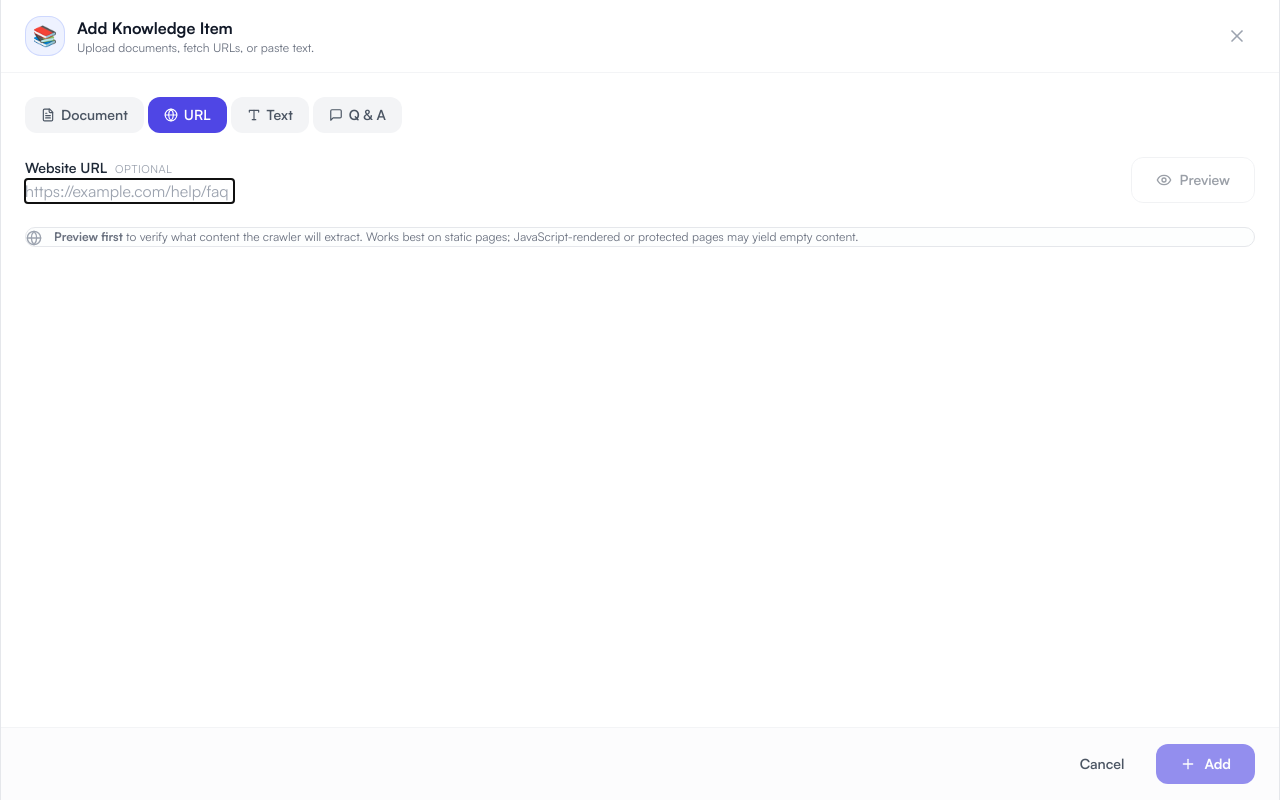
Test: URL preview selection › invalidates both previews when the URL changes
In the field labelled "Website URL": (130, 191) x1=25 y1=179 x2=234 y2=203, type "https://example.com/page"
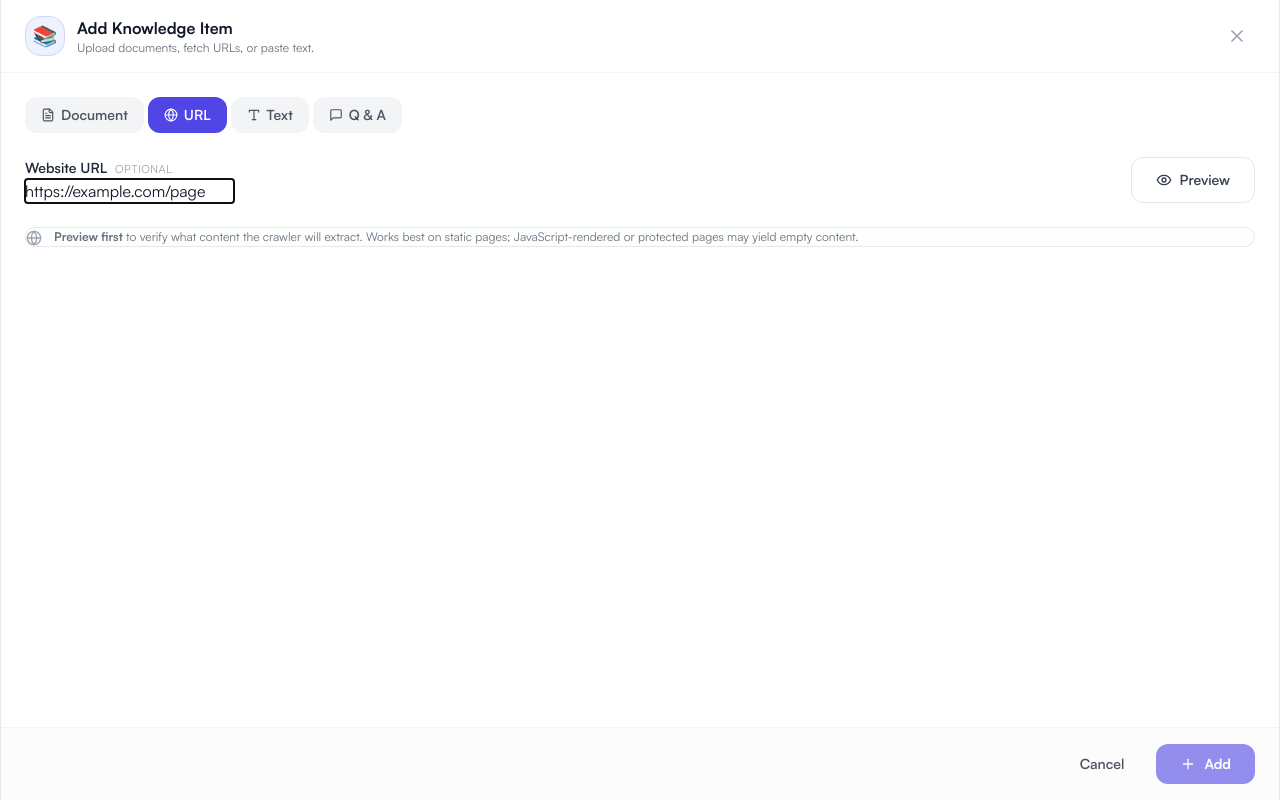
Click the button "Preview": (1193, 180) x1=1131 y1=157 x2=1255 y2=203
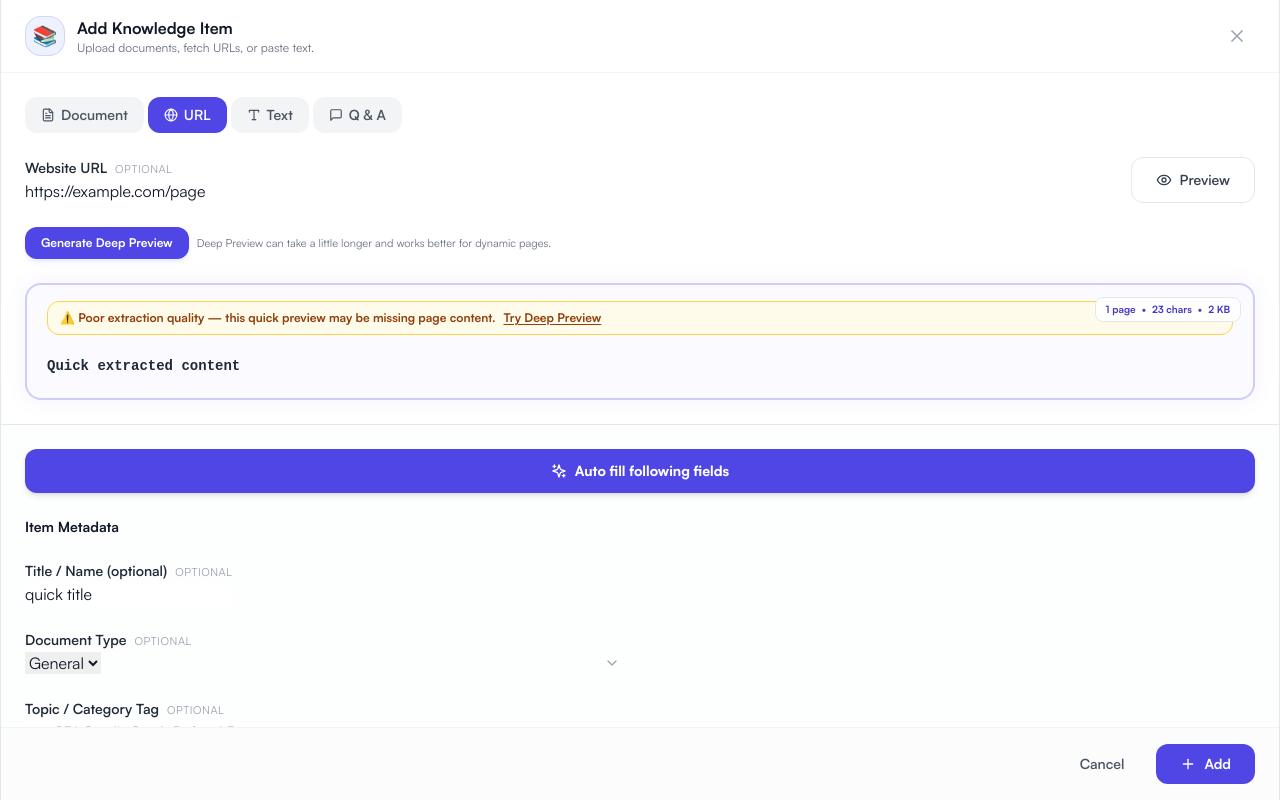
expect the text "Quick extracted content" is shown: met, box x1=47 y1=358 x2=240 y2=374
In the field labelled "Website URL": (130, 191) x1=25 y1=179 x2=234 y2=203, type "?changed=1"
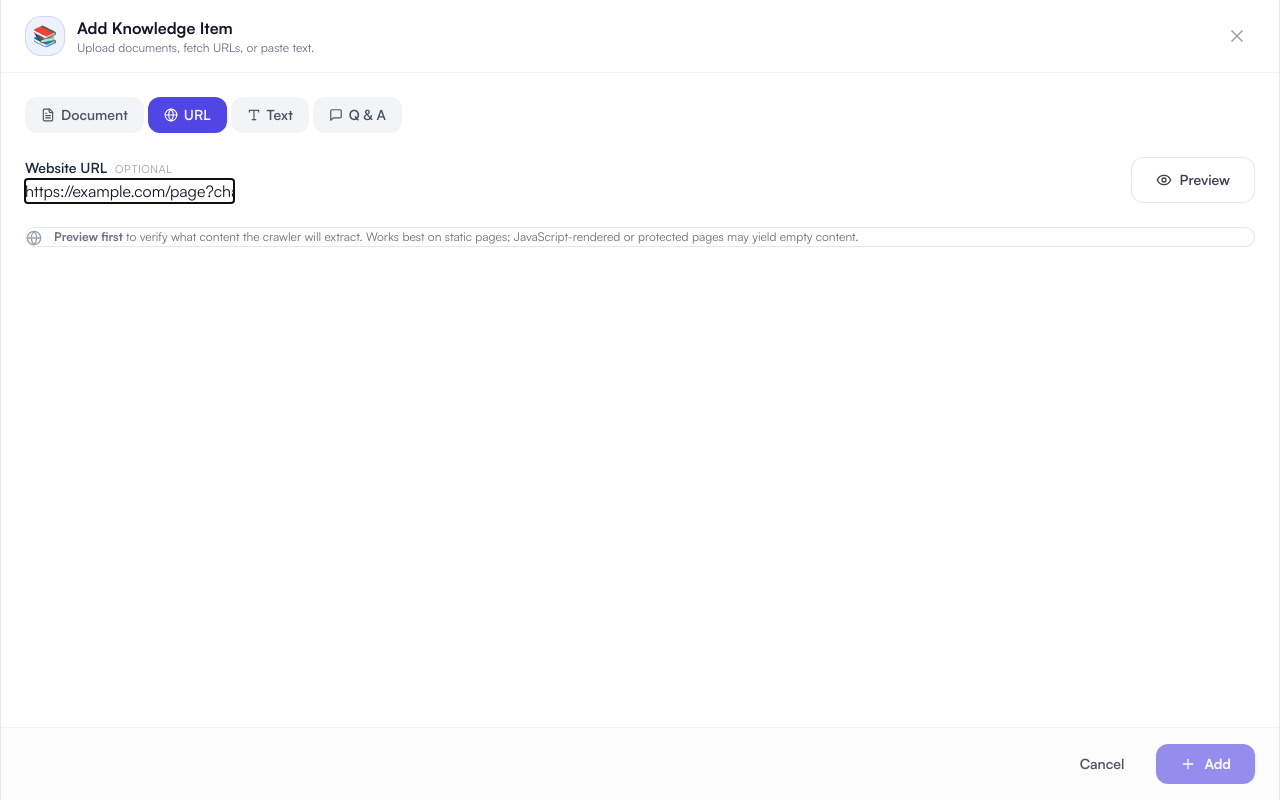
expect the text "Quick extracted content" is gone: met
expect the button "Add" is disabled: met, box x1=1156 y1=744 x2=1255 y2=784
